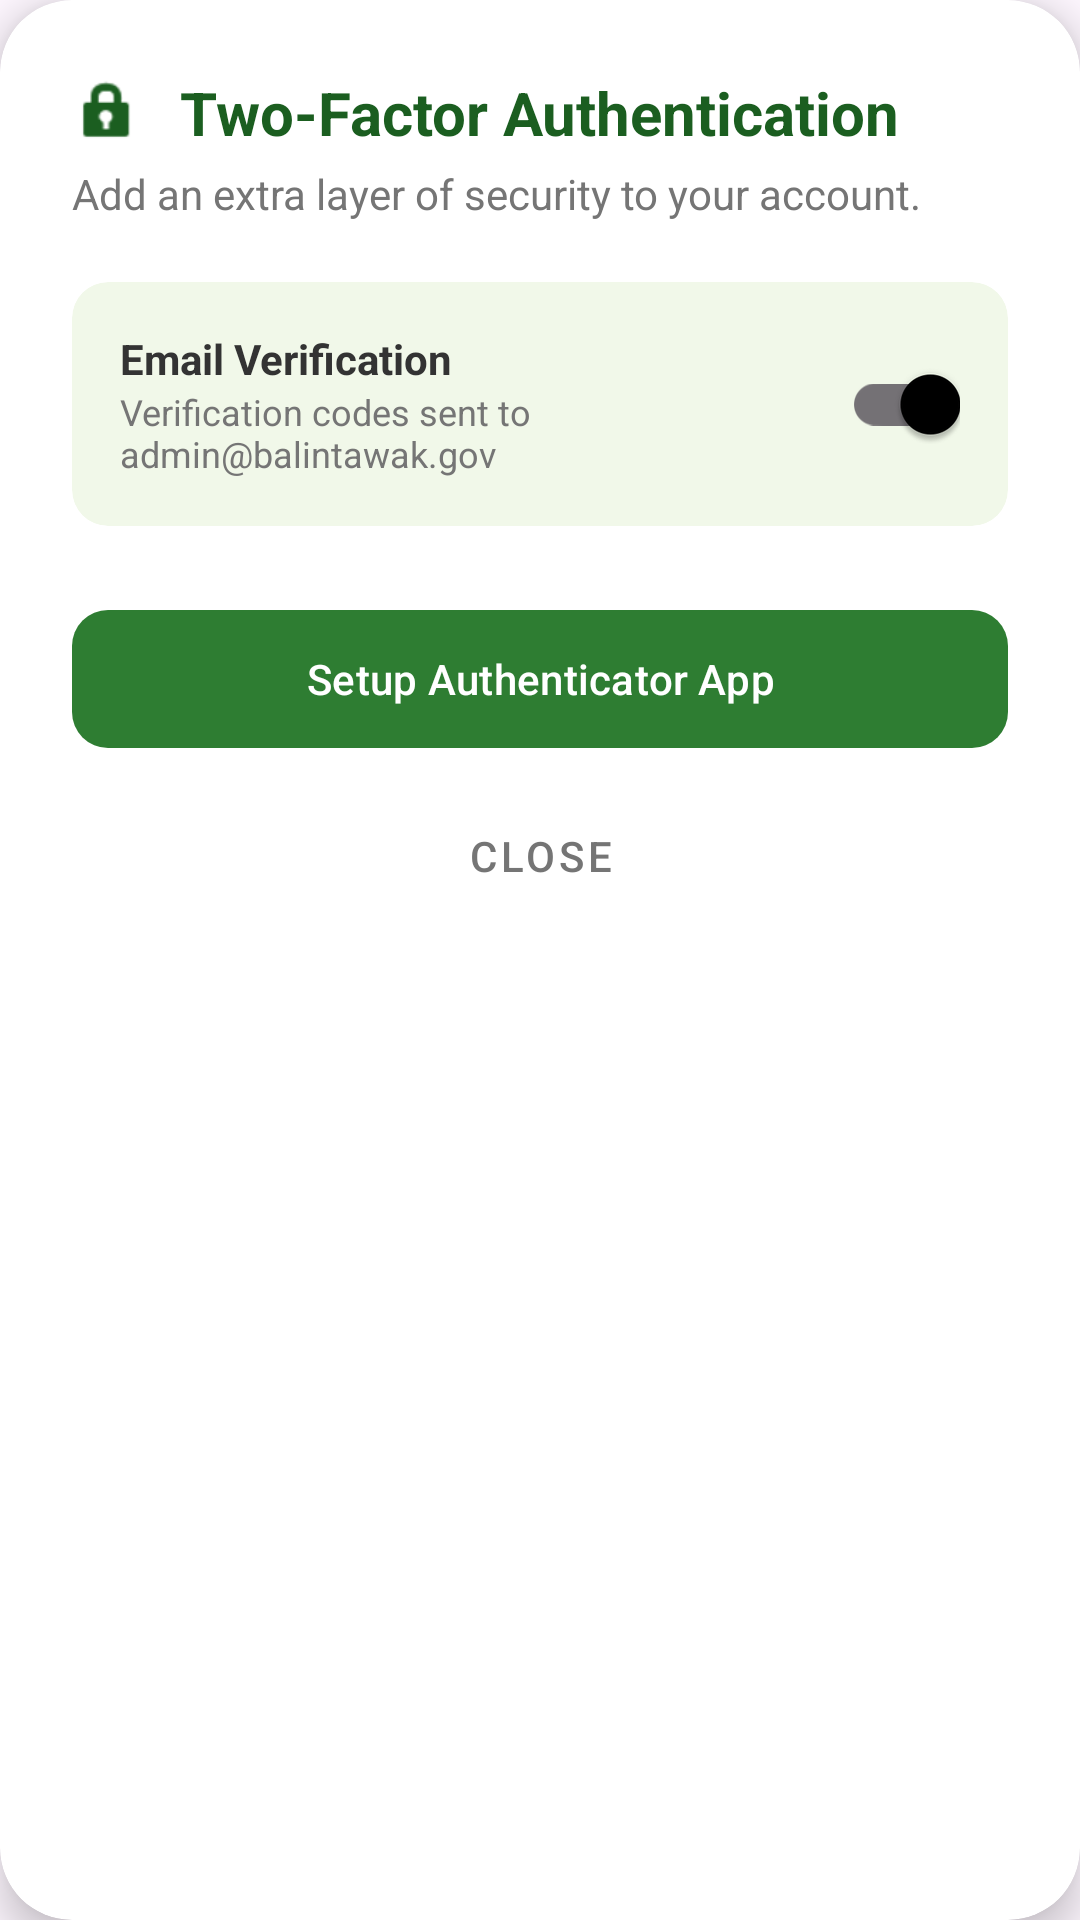

Named icons in this screenshot (1080w x 1920h) and their bounding boxes, {"x1": x1, "y1": y1, "x2": x2, "y2": y2}:
lock idle: {"x1": 83, "y1": 82, "x2": 130, "y2": 137}
